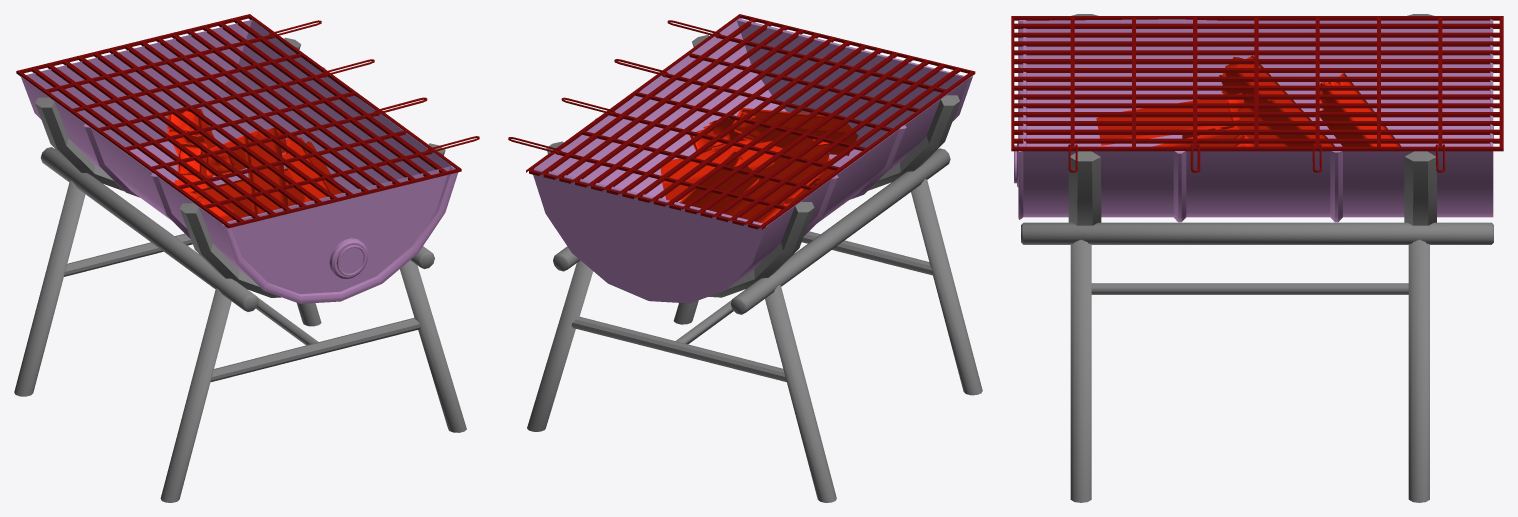
The model's file is BarbecueBarrile - Copie.fbx.
3 renders of one model, left to right at view 1: azimuth 30°, elevation 25°; view 2: azimuth 150°, elevation 25°; view 3: azimuth 270°, elevation 25°, orthographic. The views are drawn at different scales.
Parts seen in each view (by area): view 1: BarbecueBarrile; view 2: BarbecueBarrile; view 3: BarbecueBarrile.
Boxes of the visible parts, x1,y1,x2,y2 form: BarbecueBarrile: (14, 14, 479, 502); BarbecueBarrile: (508, 14, 982, 502); BarbecueBarrile: (1011, 14, 1503, 502).
Size of the model in its own units: 117 by 103 by 136.
